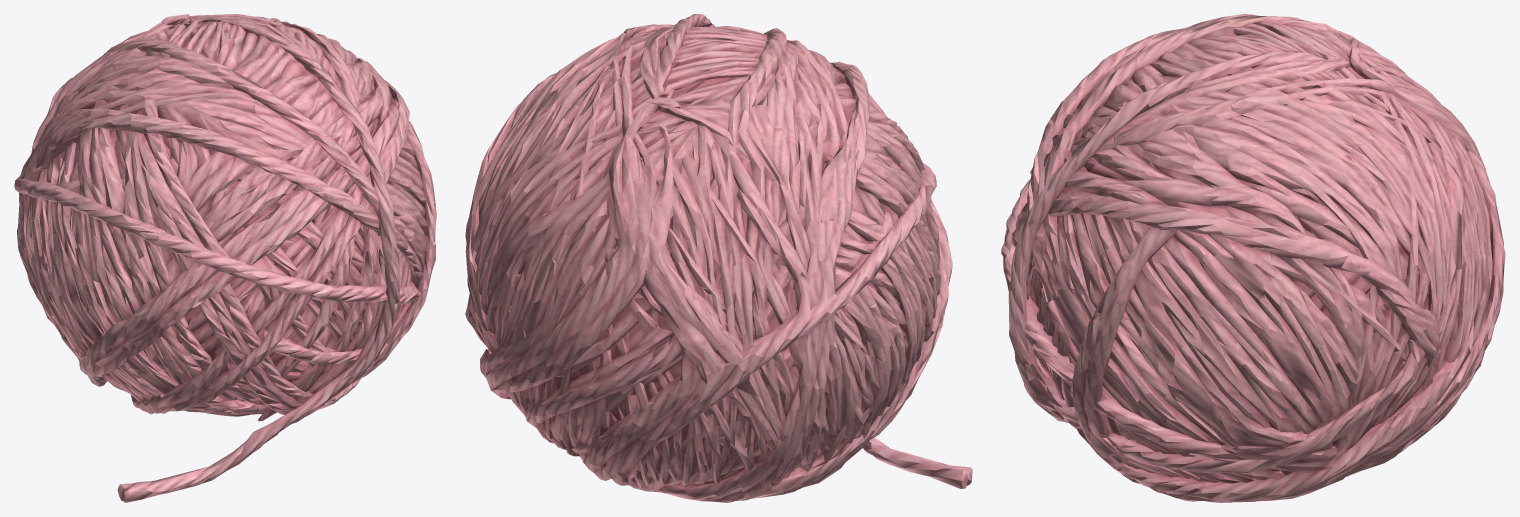
File: yarn-ball.glb
The picture shows the model from 3 angles, left to right: view 1: azimuth 30°, elevation 25°; view 2: azimuth 150°, elevation 25°; view 3: azimuth 270°, elevation 25°; orthographic projection. The views are drawn at different scales.
Size of the model in its own units: 1.8 by 1.89 by 1.9.
Materials: 1 (1 with a texture image).
